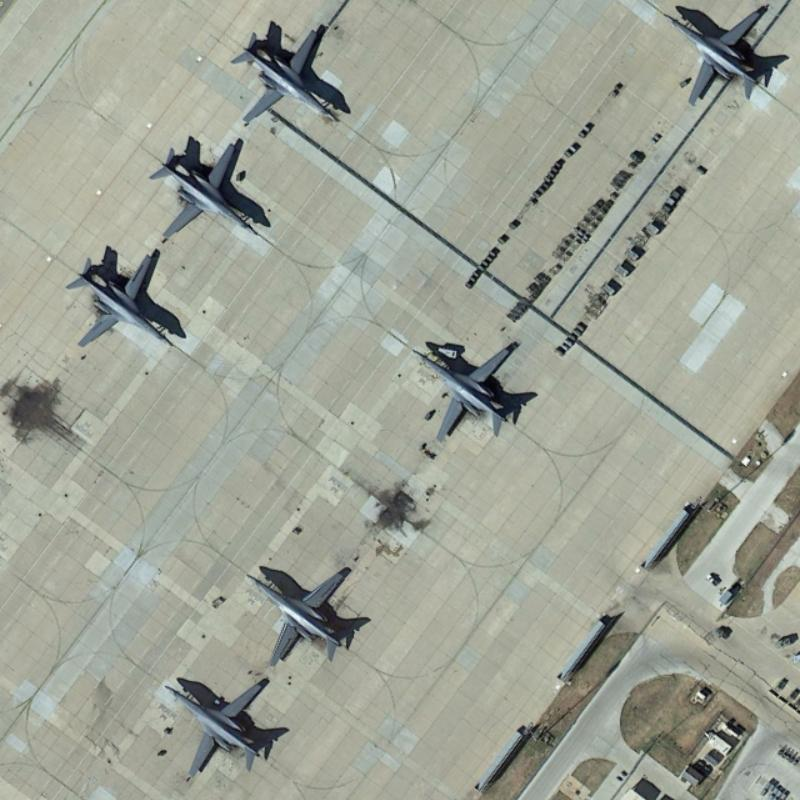A10: (646, 0, 793, 116), (136, 131, 277, 247), (61, 243, 201, 358), (147, 671, 288, 781), (226, 11, 353, 133), (238, 559, 371, 671), (403, 336, 535, 444)
